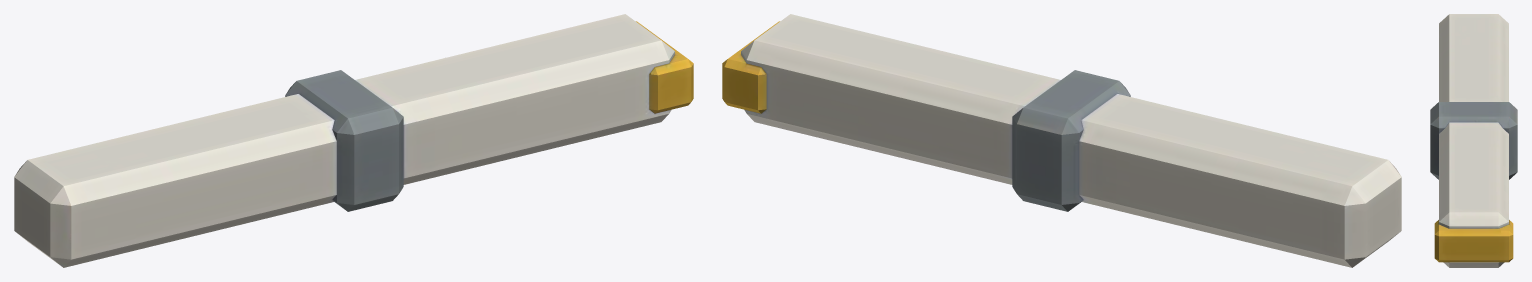
File: lighthouse-radar.glb
The picture shows the model from 3 angles, left to right: view 1: azimuth 30°, elevation 25°; view 2: azimuth 150°, elevation 25°; view 3: azimuth 270°, elevation 25°; orthographic projection. The views are drawn at different scales.
Visible parts, largest first — view 1: lighthouse-radar; view 2: lighthouse-radar; view 3: lighthouse-radar.
Part boxes in pixels (x1=…): lighthouse-radar: x1=14, y1=14, x2=693, y2=267; lighthouse-radar: x1=722, y1=14, x2=1401, y2=267; lighthouse-radar: x1=1430, y1=14, x2=1517, y2=267.
Size of the model in its own units: 0.57 by 0.08 by 0.1.
Materials: 1 (1 with a texture image).
